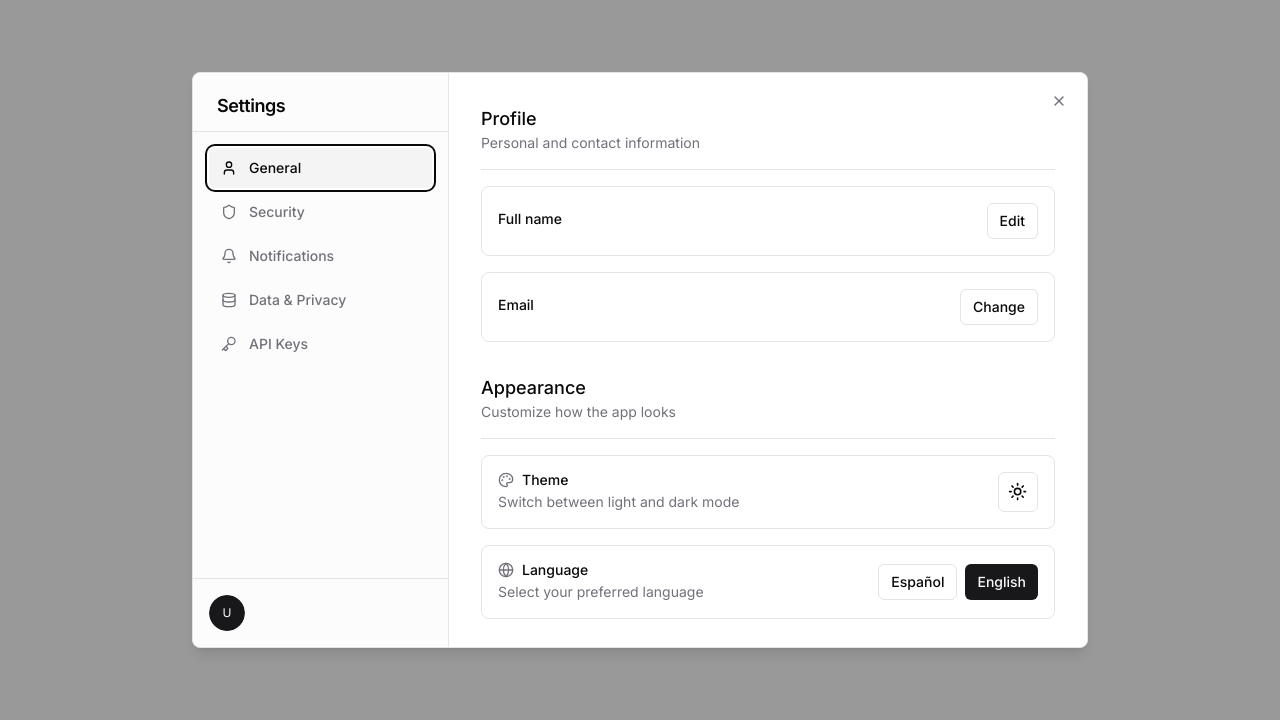
Test: SettingsModal › exposes the sections as tabs and labels every setting control
The width and height of the screenshot is (1280, 720).
Expected: the element named "Settings" is shown, [209, 148, 432, 364]
Expected: the element named "Language" is shown, [878, 564, 1038, 600]
Click the tab "Notifications" at (320,256), box [209, 236, 432, 276]
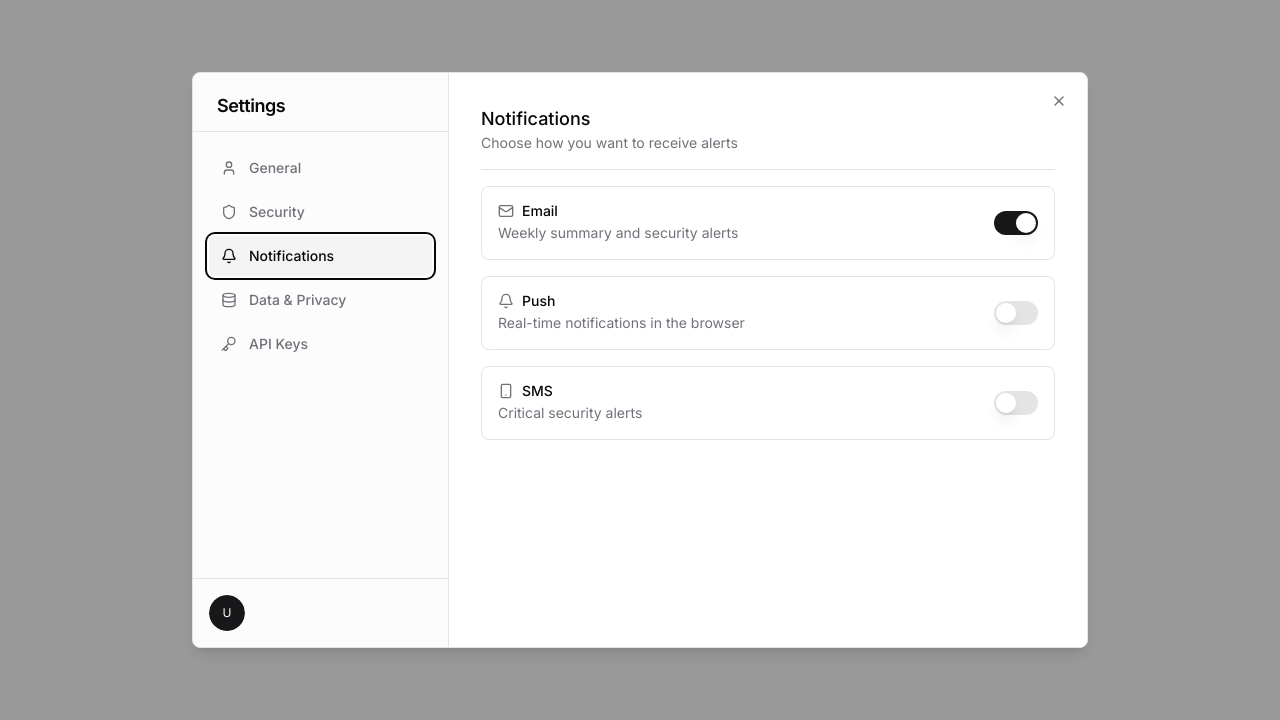
Expected: the switch named "Email" in the row of "Weekly summary and security alerts" is shown, [994, 211, 1038, 235]
Expected: the switch named "Push" in the row of "Real-time notifications in the browser" is shown, [994, 301, 1038, 325]
Expected: the switch named "SMS" in the row of "Critical security alerts" is shown, [994, 391, 1038, 415]
